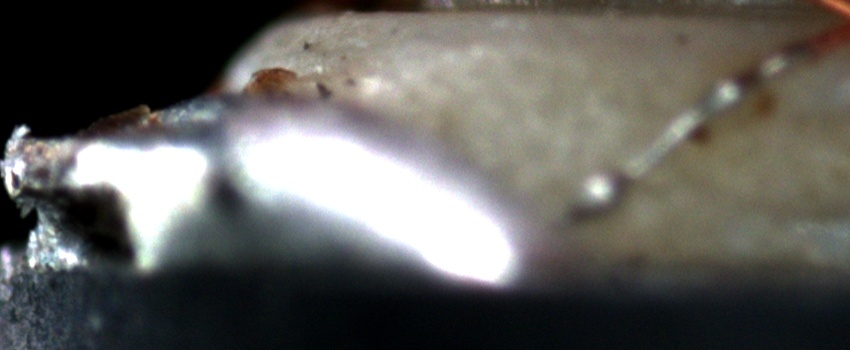TB: (568, 162, 630, 223)
TS: (567, 43, 811, 221)
TTCW: (555, 21, 846, 227)
